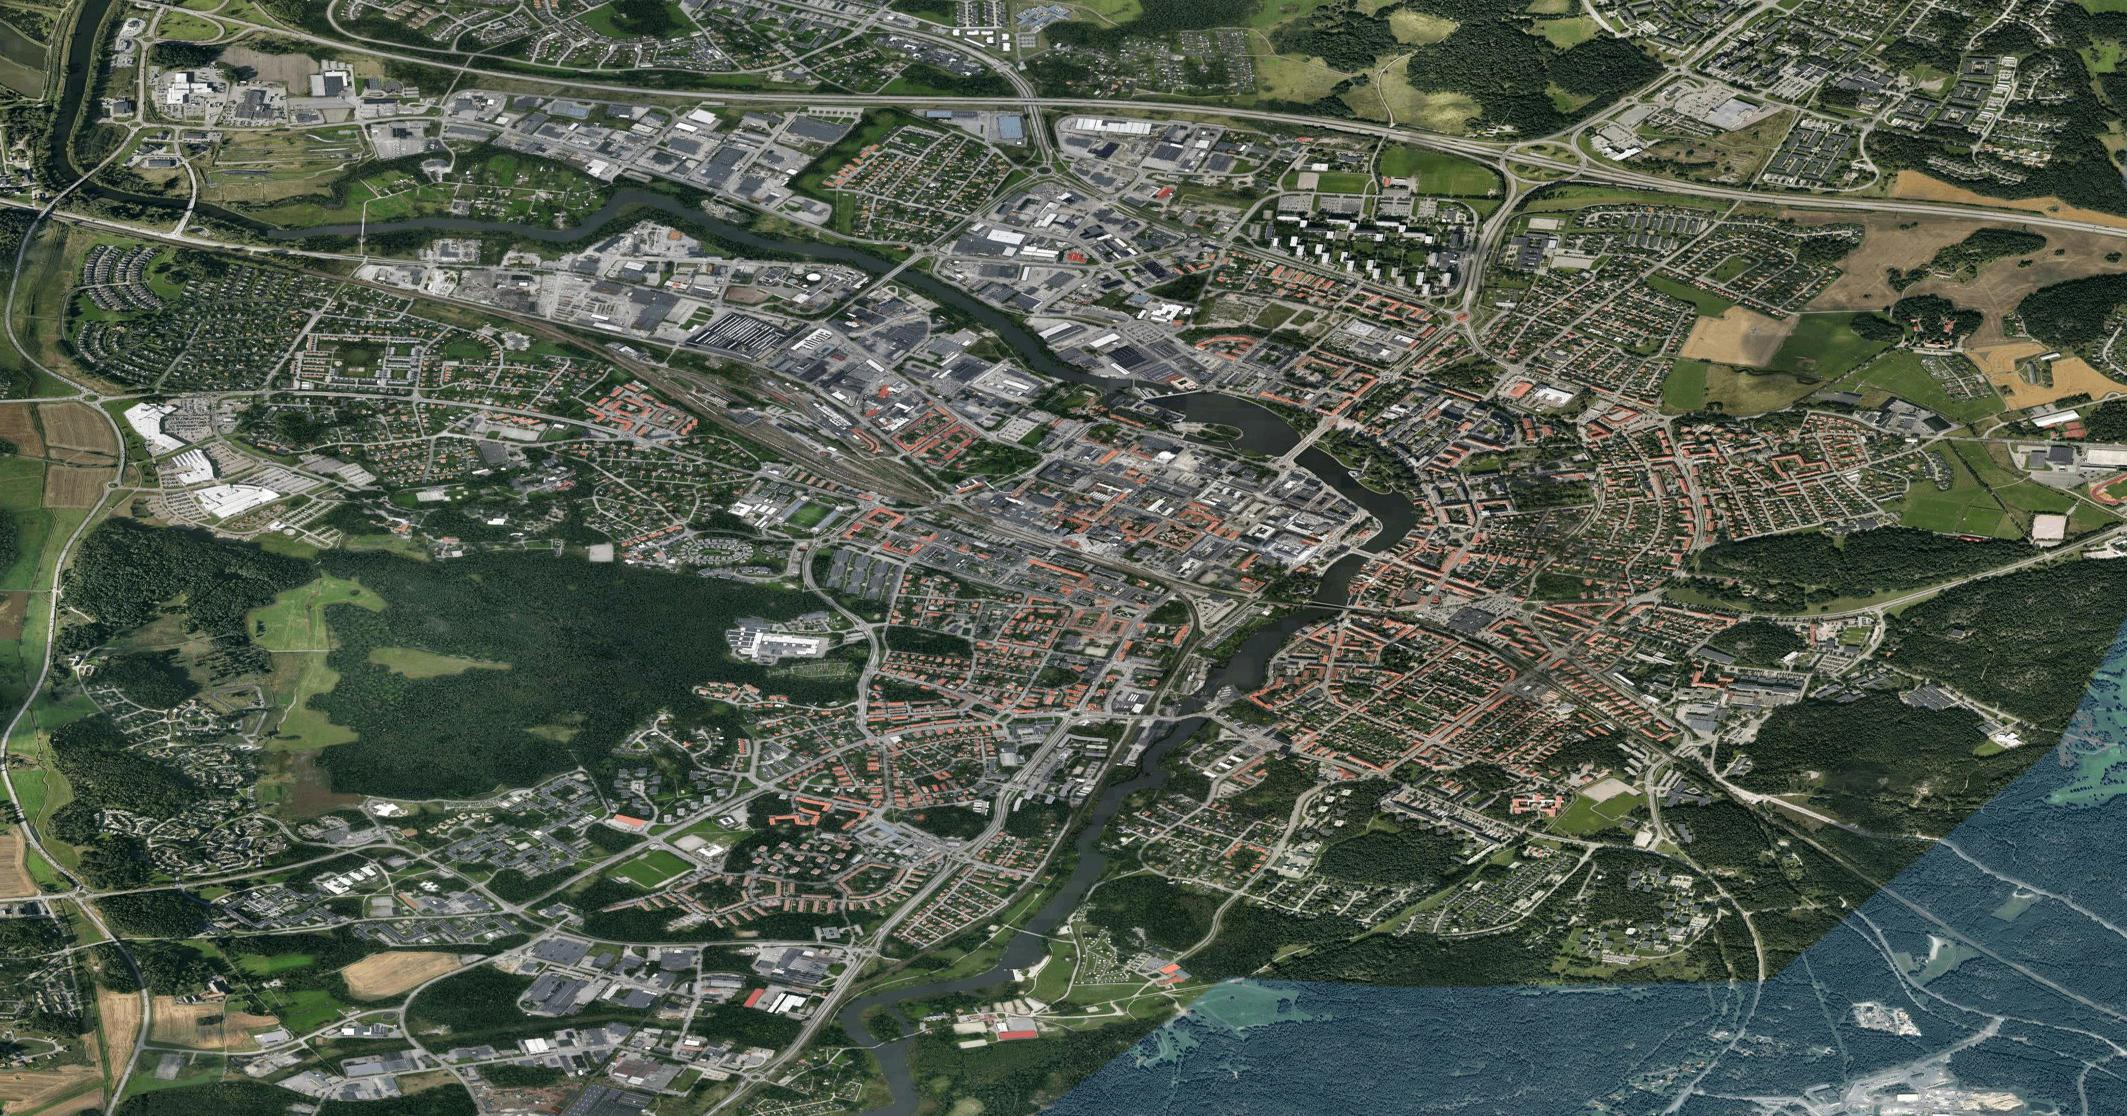bridge: (1275, 433, 1317, 466), (1296, 592, 1355, 614), (869, 259, 919, 281), (1169, 705, 1220, 725), (1343, 540, 1386, 562), (1009, 927, 1055, 943), (1018, 96, 1052, 108)
motorway: (1701, 183, 2127, 242), (1365, 125, 1701, 191), (466, 63, 764, 99), (1096, 99, 1367, 131), (764, 93, 1100, 108)
train_station: (921, 480, 1097, 571)
